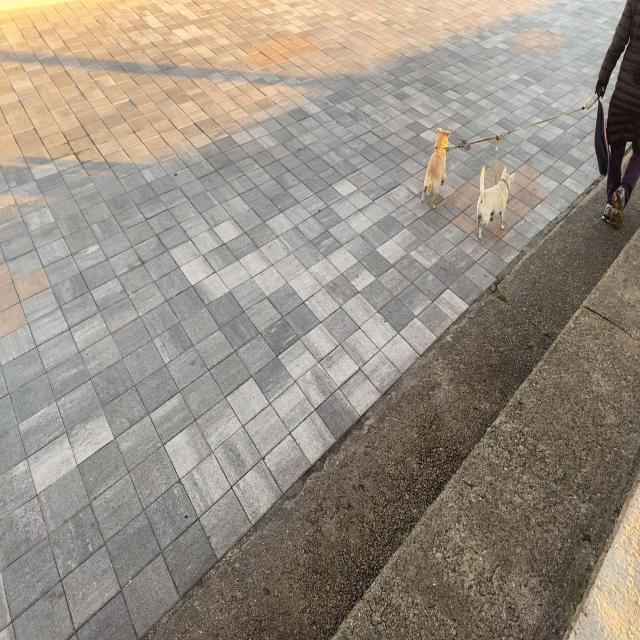Leashed_Dog: (421, 80, 622, 211), (476, 80, 621, 241)
